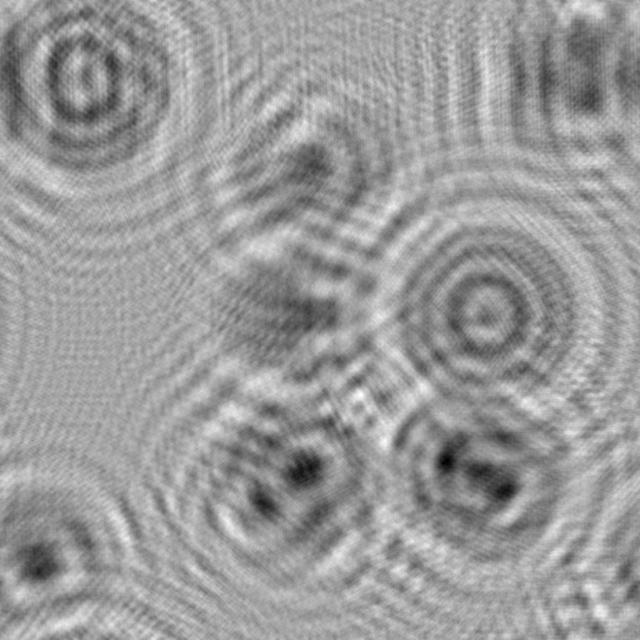B: (373, 373, 611, 605)
F: (0, 428, 180, 640)
H: (427, 0, 640, 216)
J: (158, 47, 437, 288)
O: (351, 180, 626, 441)
Q: (0, 0, 236, 254)
R: (138, 345, 407, 608)
V: (170, 210, 424, 418)
